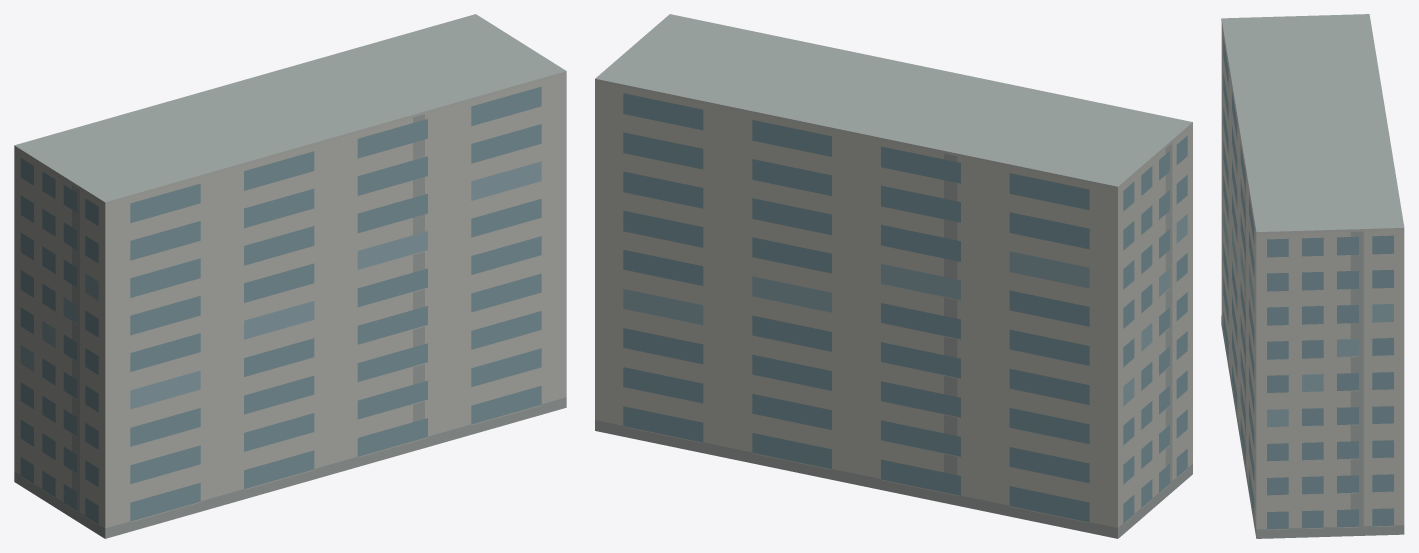
Rendered from residential-276d0153-1463-4495-b95c-422888e6dc5b.glb.
3 renders of one model, left to right at view 1: azimuth 30°, elevation 25°; view 2: azimuth 150°, elevation 25°; view 3: azimuth 270°, elevation 25°, orthographic. The views are drawn at different scales.
Parts seen in each view (by area): view 1: residential-276d0153-1463-4495-b95c-422888e6dc5b.tmp; view 2: residential-276d0153-1463-4495-b95c-422888e6dc5b.tmp; view 3: residential-276d0153-1463-4495-b95c-422888e6dc5b.tmp.
Boxes of the visible parts, x1=… form: residential-276d0153-1463-4495-b95c-422888e6dc5b.tmp: x1=14, y1=14, x2=566, y2=538; residential-276d0153-1463-4495-b95c-422888e6dc5b.tmp: x1=595, y1=14, x2=1192, y2=538; residential-276d0153-1463-4495-b95c-422888e6dc5b.tmp: x1=1221, y1=14, x2=1404, y2=538.
Bounding box in the file's own units: 47.28 × 31 × 16.77.
